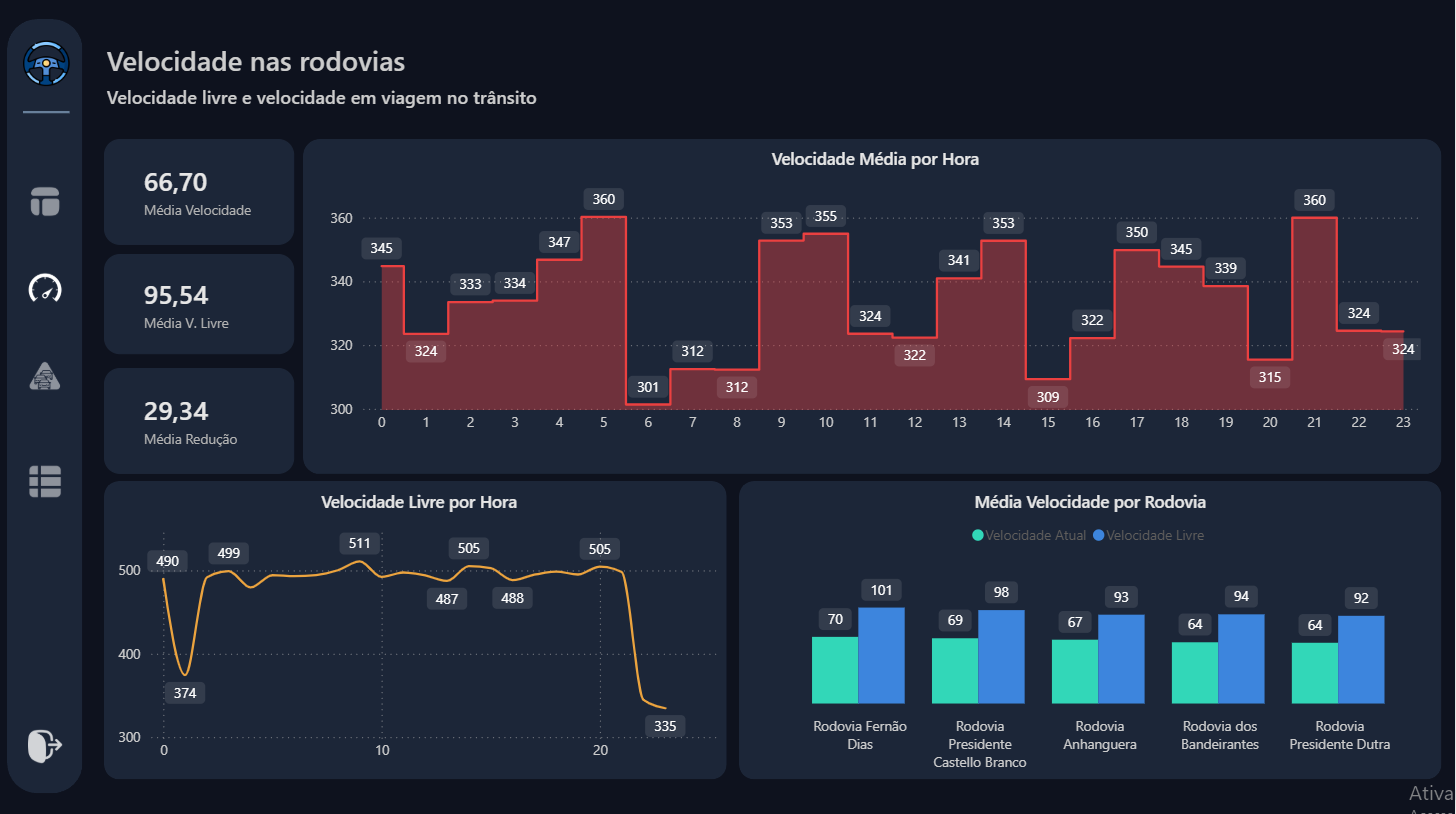

What the dashboard file says about the page in this screenshot:
{"tool":"powerbi","page":{"name":"Velocidade","canvas":[1280,720],"ordinal":1},"visuals":[{"type":"shape","box":[651.3,427,616.8,262],"z":0},{"type":"shape","box":[268.5,126.2,999.6,294.4],"z":2000},{"type":"shape","box":[9.2,21.5,66.5,679.9],"z":3000},{"type":"image","box":[22.5,35.8,40.9,48.1],"z":4000},{"type":"image","box":[27.6,163.6,29.6,35.8],"z":5000},{"type":"image","box":[27.6,239.2,29.6,35.8],"z":6000},{"type":"image","box":[27.6,315.9,29.6,35.8],"z":7000},{"type":"image","box":[27.6,642,29.6,35.8],"z":9000},{"type":"shape","box":[22.5,83.8,40.9,38.8],"z":10000},{"type":"areaChart","title":"Velocidade Média por Hora","fields":{"Y":["Sum(gold_speed_by_hour.avg_current_speed)"],"Category":["gold_speed_by_hour.hour"]},"box":[286.8,133.7,968.4,259.9],"z":11000},{"type":"shape","box":[93.8,427,546.7,262],"z":12000},{"type":"lineChart","title":"Velocidade Livre por Hora","fields":{"Category":["gold_speed_by_hour.hour"],"Y":["Sum(gold_speed_by_hour.avg_free_flow_speed)"]},"box":[101.4,434.6,539.2,246.9],"z":13000},{"type":"clusteredColumnChart","title":"Média Velocidade por Rodovia ","fields":{"Category":["gold_speed_by_hour.road_name"],"Y":["Avg(gold_speed_by_hour.avg_current_speed)","Avg(gold_speed_by_hour.avg_free_flow_speed)"]},"box":[651.3,434.6,616.8,254.5],"z":15000},{"type":"textbox","box":[91.7,35.6,299.8,46.4],"z":16000},{"type":"textbox","box":[91.7,73.3,407.6,46.4],"z":17000},{"type":"cardVisual","fields":{"Data":["Avg(gold_speed_by_hour.avg_current_speed)"]},"box":[93.8,126.2,167.1,92.7],"z":17001},{"type":"cardVisual","fields":{"Data":["Avg(gold_speed_by_hour.avg_free_flow_speed)"]},"box":[93.8,227.5,167.1,88.4],"z":17002},{"type":"cardVisual","fields":{"Data":["Avg(gold_speed_by_hour.speed_reduction_percentage)"]},"box":[93.8,327.8,167.1,92.7],"z":17003},{"type":"image","box":[27.6,408.9,29.6,35.8],"z":17004},{"type":"actionButton","box":[9.7,313.8,66.9,39.9],"z":17005},{"type":"actionButton","box":[8.6,404.4,66.9,39.9],"z":17006},{"type":"actionButton","box":[8.6,163.9,66.9,39.9],"z":17007}]}

Visuals, with their boxes on the page's 1280x720 design canvas (x1, y1, x2, y2). These are canvas units, not pixel positions in the 1456x814 screenshot, which may show the page scaled, cropped or inside an application window:
shape: {"x1": 651, "y1": 427, "x2": 1268, "y2": 689}
shape: {"x1": 268, "y1": 126, "x2": 1268, "y2": 421}
shape: {"x1": 9, "y1": 22, "x2": 76, "y2": 701}
image: {"x1": 22, "y1": 36, "x2": 63, "y2": 84}
image: {"x1": 28, "y1": 164, "x2": 57, "y2": 199}
image: {"x1": 28, "y1": 239, "x2": 57, "y2": 275}
image: {"x1": 28, "y1": 316, "x2": 57, "y2": 352}
image: {"x1": 28, "y1": 642, "x2": 57, "y2": 678}
shape: {"x1": 22, "y1": 84, "x2": 63, "y2": 123}
"Velocidade Média por Hora" areaChart: {"x1": 287, "y1": 134, "x2": 1255, "y2": 394}
shape: {"x1": 94, "y1": 427, "x2": 640, "y2": 689}
"Velocidade Livre por Hora" lineChart: {"x1": 101, "y1": 435, "x2": 641, "y2": 682}
"Média Velocidade por Rodovia " clusteredColumnChart: {"x1": 651, "y1": 435, "x2": 1268, "y2": 689}
textbox: {"x1": 92, "y1": 36, "x2": 392, "y2": 82}
textbox: {"x1": 92, "y1": 73, "x2": 499, "y2": 120}
cardVisual - Avg(gold_speed_by_hour.avg_current_speed): {"x1": 94, "y1": 126, "x2": 261, "y2": 219}
cardVisual - Avg(gold_speed_by_hour.avg_free_flow_speed): {"x1": 94, "y1": 228, "x2": 261, "y2": 316}
cardVisual - Avg(gold_speed_by_hour.speed_reduction_percentage): {"x1": 94, "y1": 328, "x2": 261, "y2": 420}
image: {"x1": 28, "y1": 409, "x2": 57, "y2": 445}
actionButton: {"x1": 10, "y1": 314, "x2": 77, "y2": 354}
actionButton: {"x1": 9, "y1": 404, "x2": 76, "y2": 444}
actionButton: {"x1": 9, "y1": 164, "x2": 76, "y2": 204}
